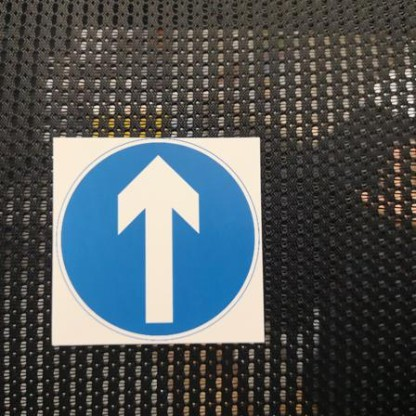forward: (54, 135, 262, 343)
